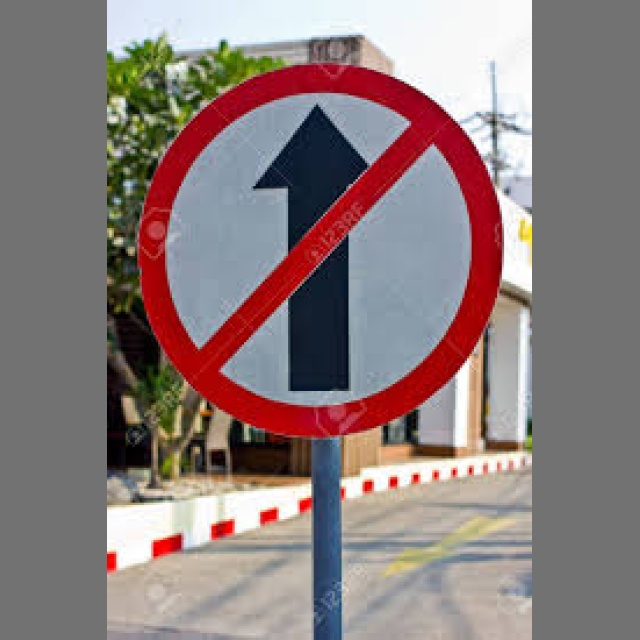No_Entry: (146, 67, 508, 434)
